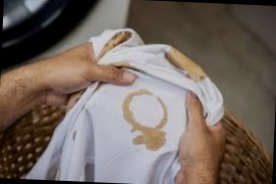coffee: (129, 123, 167, 151), (121, 93, 133, 124), (156, 95, 168, 126)
